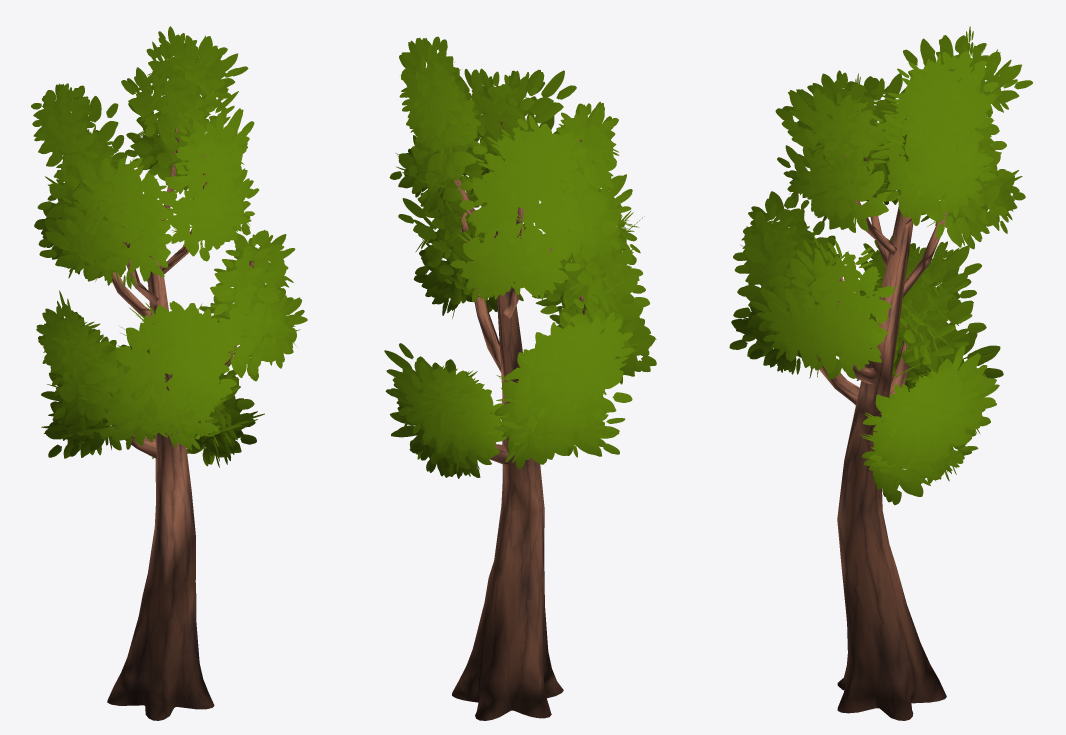
File: CommonTree_3.gltf
3 renders of one model, left to right at view 1: azimuth 30°, elevation 25°; view 2: azimuth 150°, elevation 25°; view 3: azimuth 270°, elevation 25°, orthographic. The views are drawn at different scales.
Parts seen in each view (by area): view 1: CommonTree_3_Foliage, CommonTree_3_Bark; view 2: CommonTree_3_Foliage, CommonTree_3_Bark; view 3: CommonTree_3_Foliage, CommonTree_3_Bark.
Part boxes in pixels (x1=…): CommonTree_3_Foliage: x1=31, y1=26, x2=307, y2=467; CommonTree_3_Bark: x1=106, y1=123, x2=253, y2=720; CommonTree_3_Foliage: x1=384, y1=36, x2=656, y2=478; CommonTree_3_Bark: x1=452, y1=122, x2=586, y2=720; CommonTree_3_Foliage: x1=729, y1=26, x2=1032, y2=504; CommonTree_3_Bark: x1=817, y1=155, x2=947, y2=720.
Size of the model in its own units: 9.18 by 22 by 9.85.
Materials: 2 (2 with a texture image).
